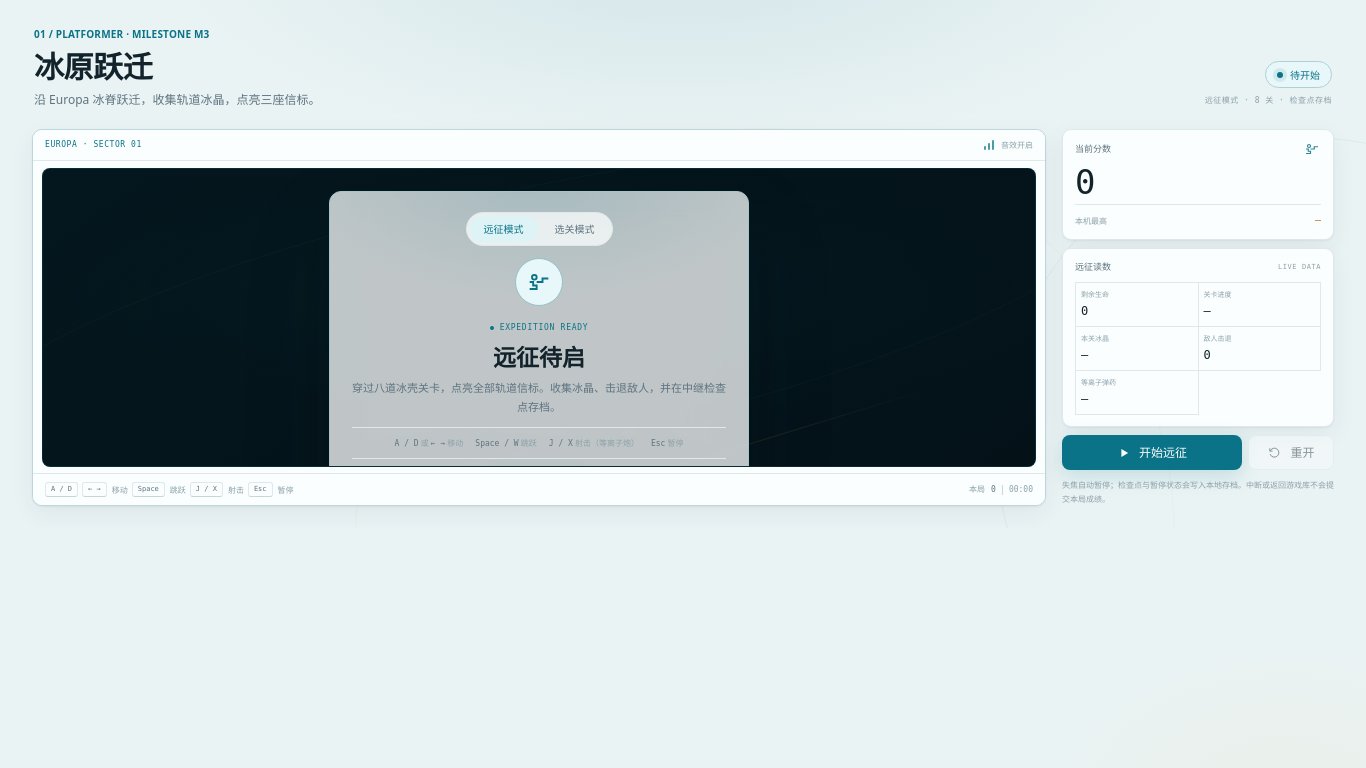
Scenario: PlatformerGame › retries the same level with Enter after a select game over
This screenshot has width=1366, height=768.
Click the tab "选关模式".
click(574, 229)  # box [540,216,608,242]
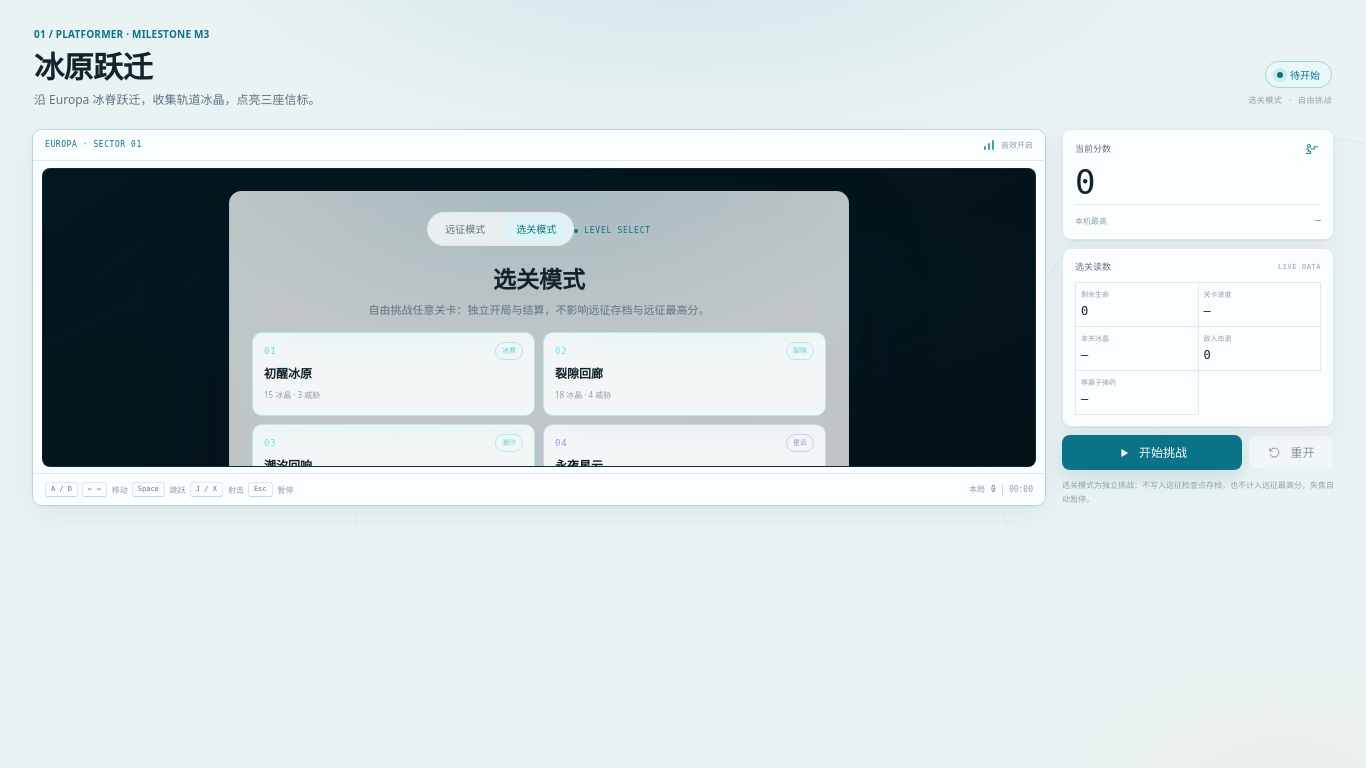
Result: the button "01 冰原 初醒冰原 15 冰晶 · 3 威胁" is shown
Click the button "01 冰原 初醒冰原 15 冰晶 · 3 威胁".
click(288, 374)  # box [252,332,535,416]
Wait 1200 ms
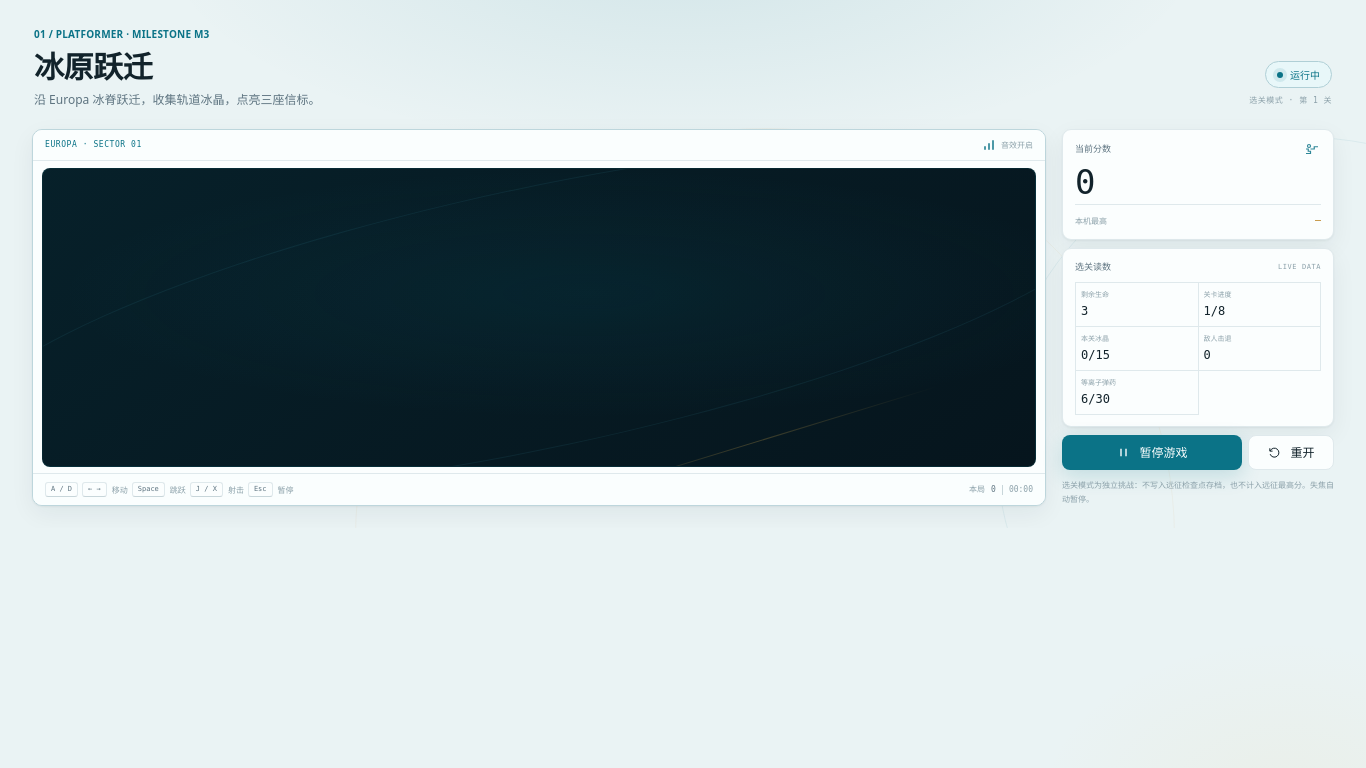
Result: the text "运行中" is shown at [1265,61,1332,88]
Press KeyA
Wait 6000 ms
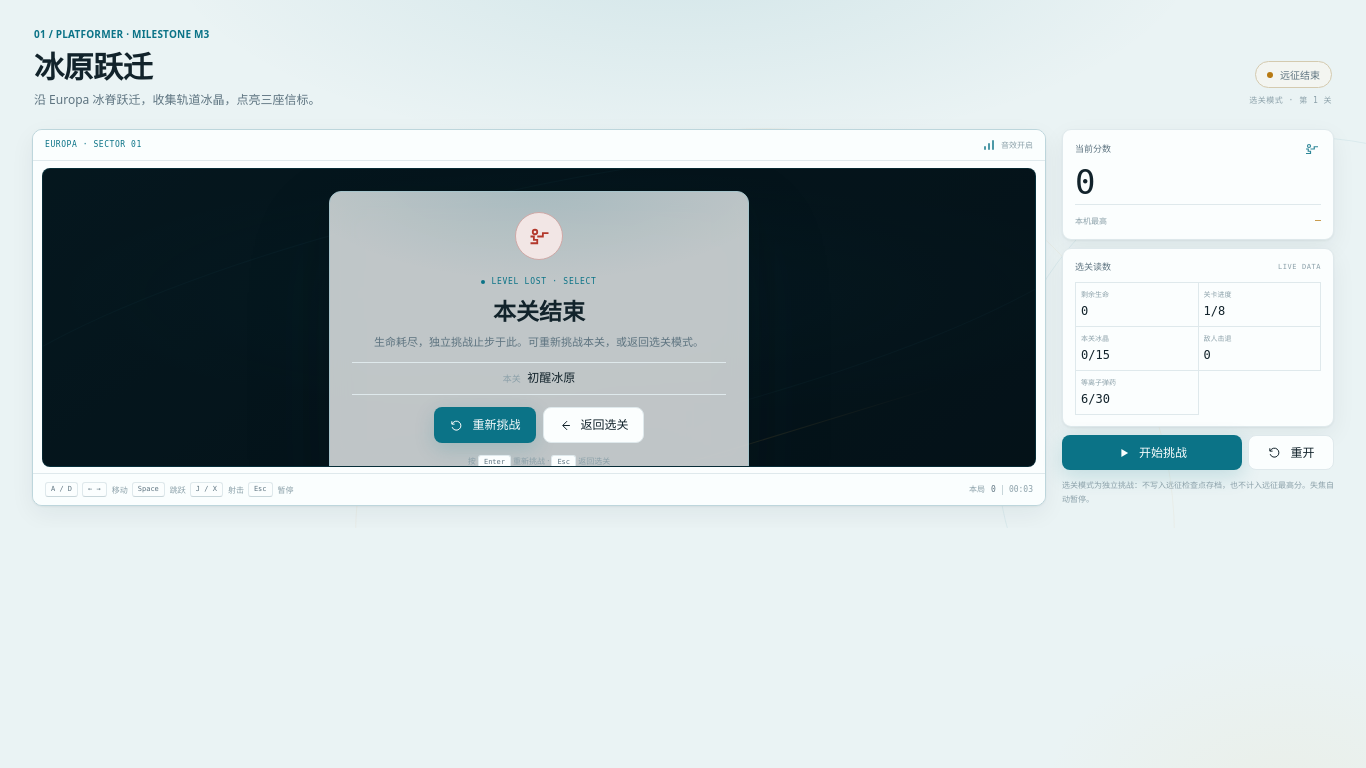
Result: the heading "本关结束" is shown at [493,295,585,327]
Press Enter
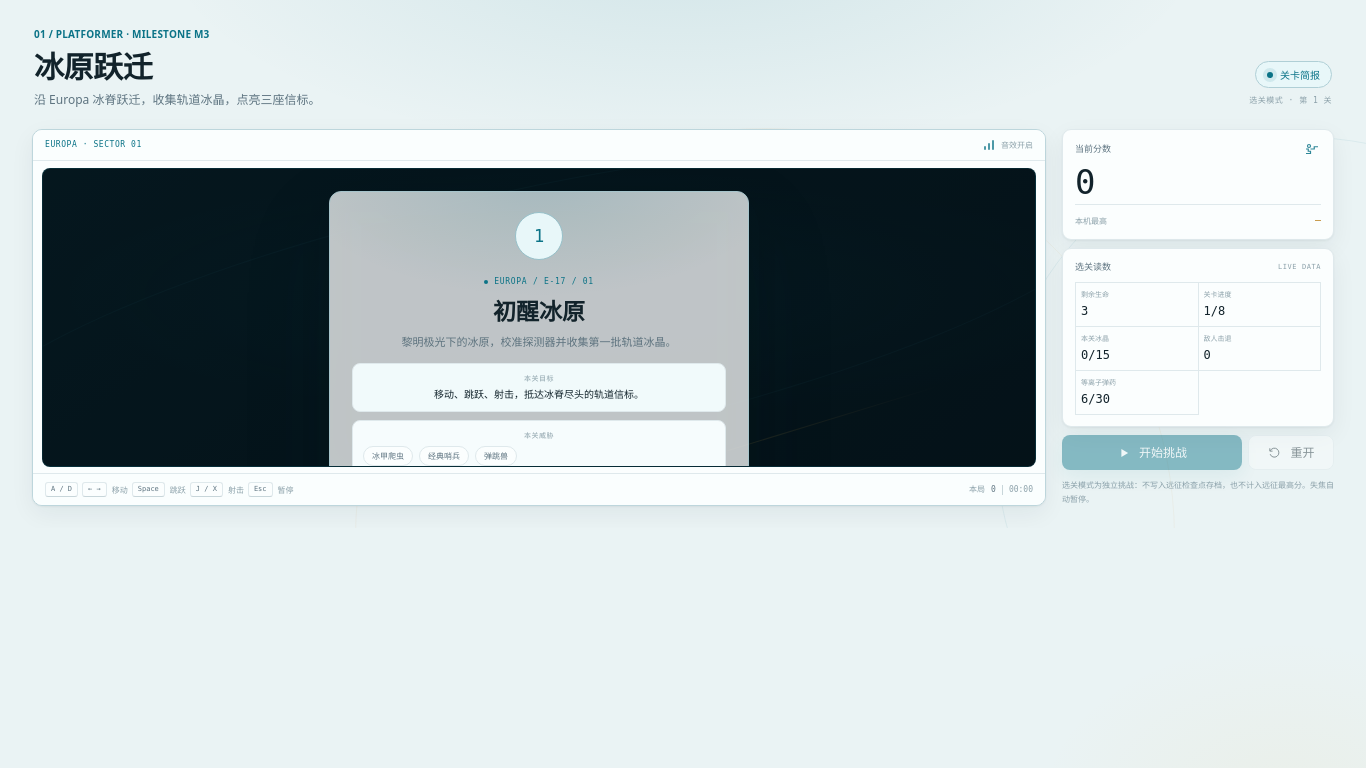
Result: the text "关卡简报" is shown at [1255,61,1332,88]
Result: the heading "本关结束" is gone
